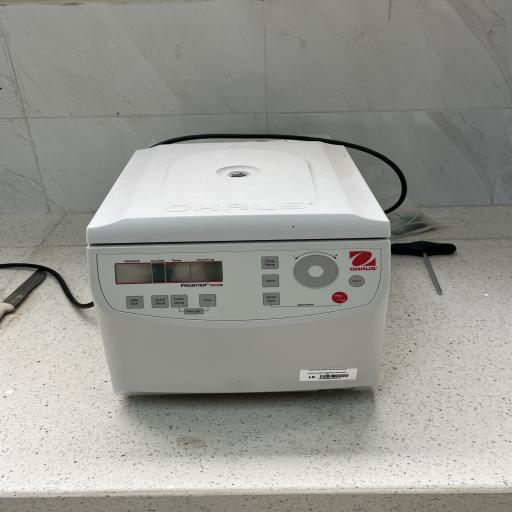Centrifuga_Ohaus_Frontier: (76, 128, 404, 401)
